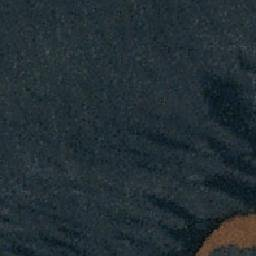debris: (198, 212, 254, 256)
